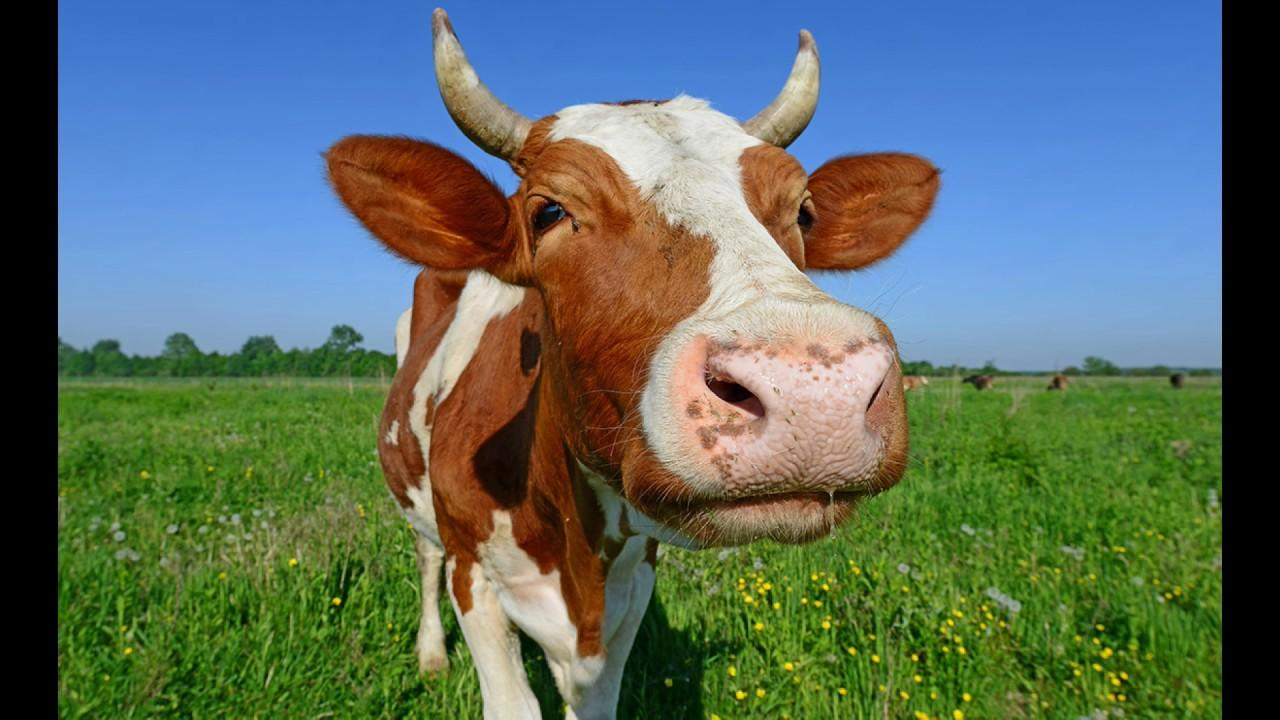muzzles: (592, 302, 922, 562)
